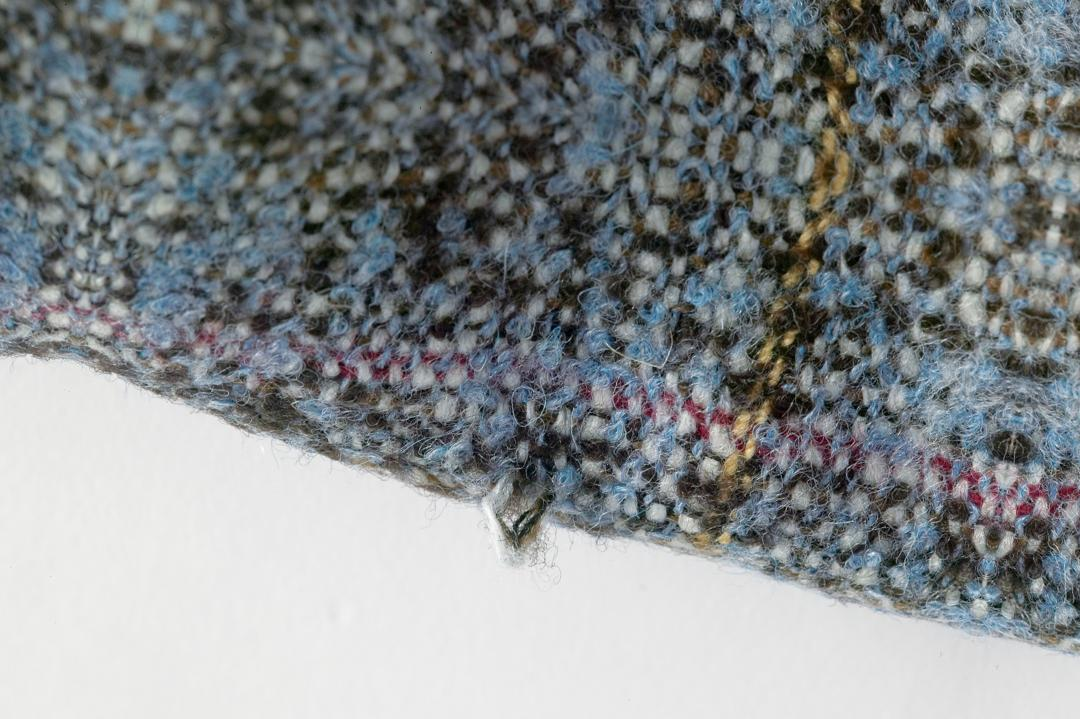snag: (422, 441, 575, 576)
